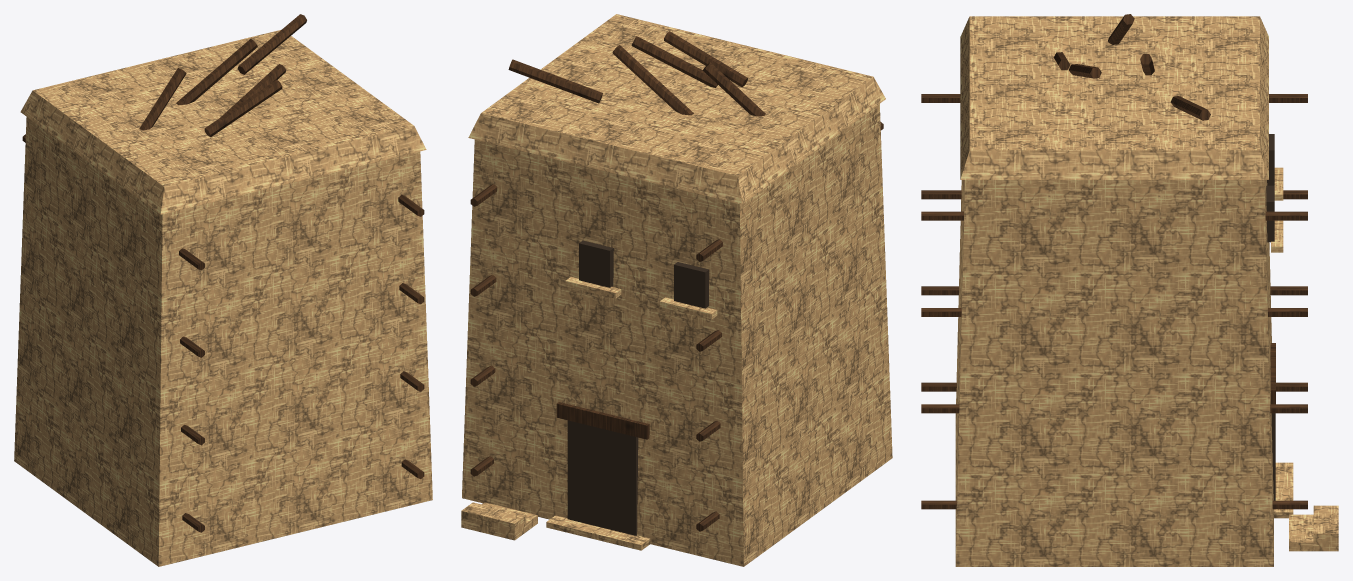
Rendered from mali_house_v2.glb.
3 views of the same model, side by side, from view 1: azimuth 30°, elevation 25°; view 2: azimuth 150°, elevation 25°; view 3: azimuth 270°, elevation 25° (orthographic). The views are drawn at different scales.
Parts seen in each view (by area): view 1: mali_house_v2; view 2: mali_house_v2; view 3: mali_house_v2.
Part boxes in pixels (x1,y1,x2,y2): mali_house_v2: (14,14,432,566); mali_house_v2: (461,14,892,566); mali_house_v2: (921,14,1338,566).
Size of the model in its own units: 6.34 by 9.29 by 7.59.
3 materials, 2 textured.
